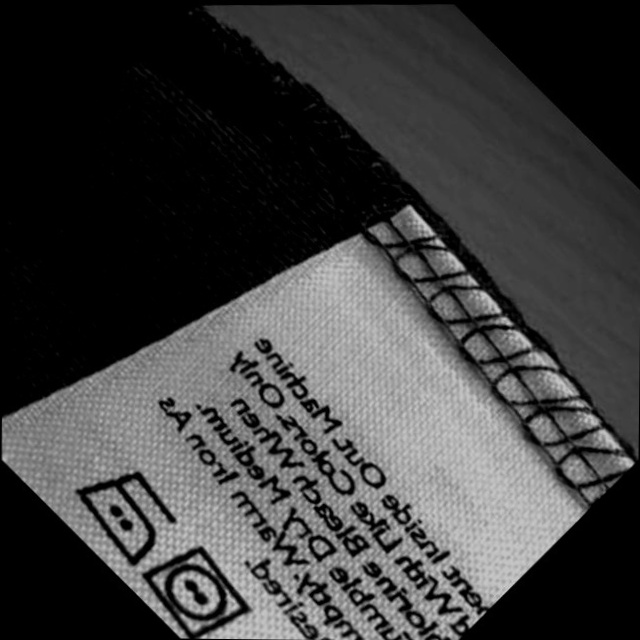iron_medium: (68, 469, 175, 563)
tumble_dry_medium: (139, 547, 250, 637)
